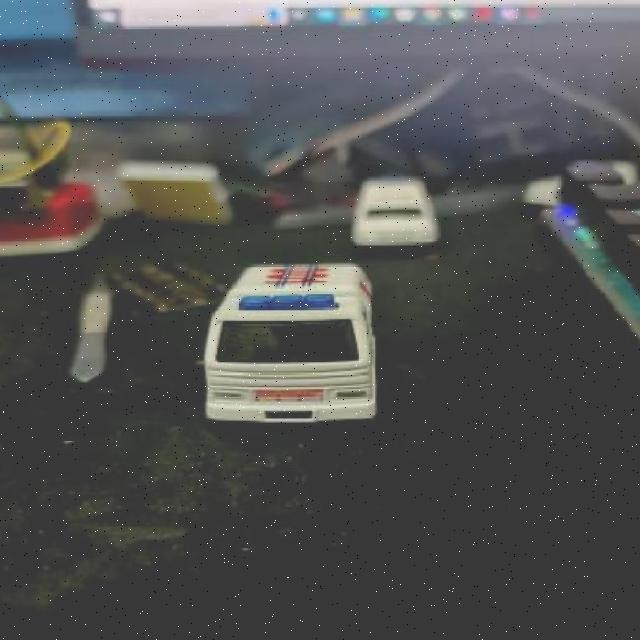car: (198, 261, 386, 432)
